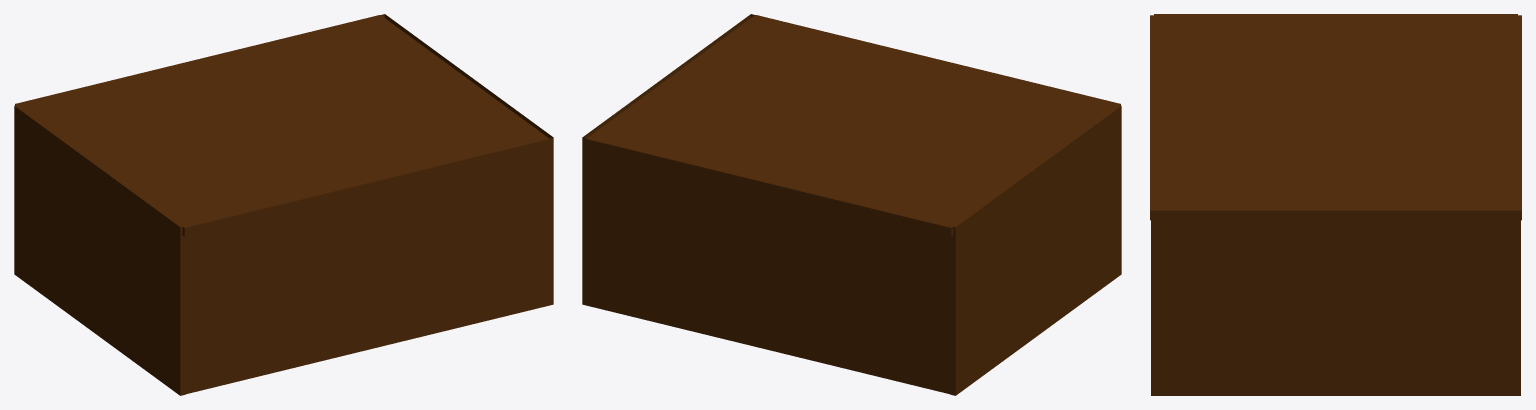
The model's file is Nivel3 atico.glb.
The picture shows the model from 3 angles, left to right: view 1: azimuth 30°, elevation 25°; view 2: azimuth 150°, elevation 25°; view 3: azimuth 270°, elevation 25°; orthographic projection. The views are drawn at different scales.
Visible parts, largest first — view 1: Cube.032, Cube.001, Cube.041; view 2: Cube.032, Cube.001, Cube.041; view 3: Cube.032, Cube.001, Cube.041.
Part boxes in pixels (x1,y1,x2,y2): Cube.032: (15,15,549,236); Cube.001: (183,14,553,394); Cube.041: (14,104,185,395); Cube.032: (586,15,1120,236); Cube.001: (582,14,952,394); Cube.041: (950,104,1121,395); Cube.032: (1150,15,1521,220); Cube.001: (1151,213,1520,395); Cube.041: (1154,14,1517,16).
Bounding box in the file's own units: 8.27 × 3.58 × 6.53.
